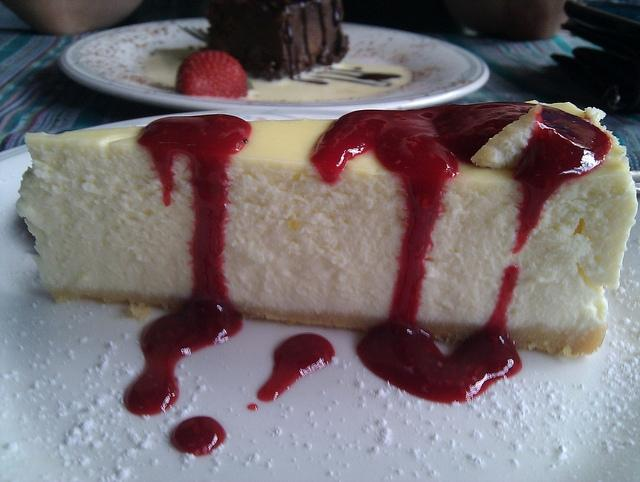strawberry: (176, 50, 248, 99)
